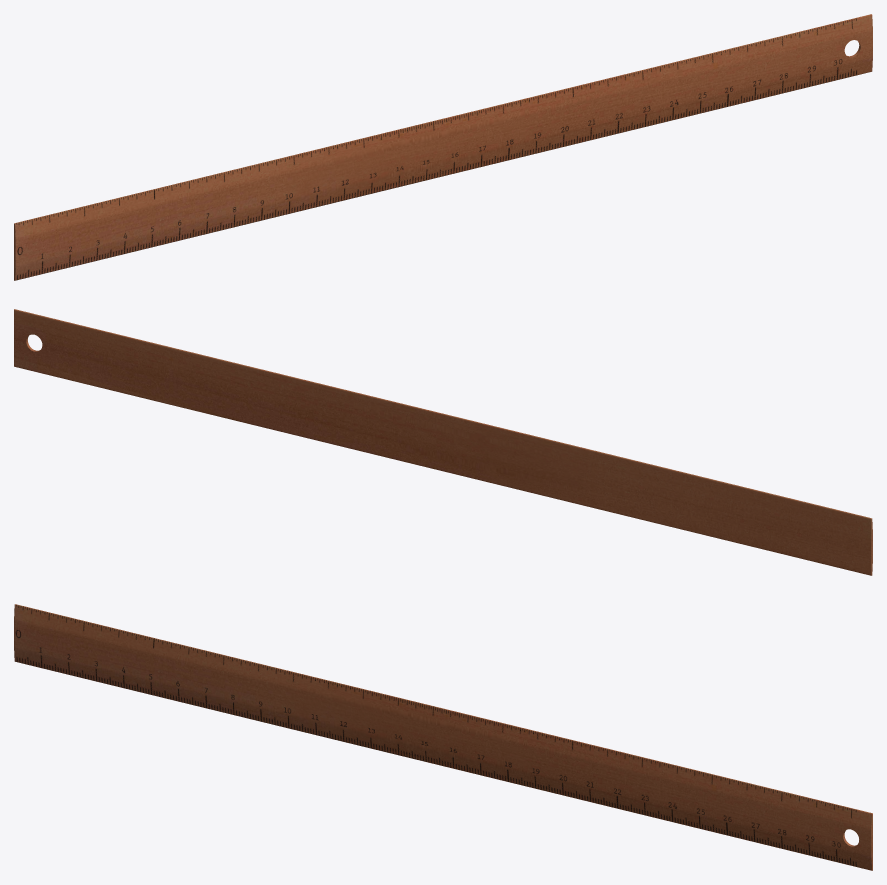
3 renders of one model, top to bottom at view 1: azimuth 30°, elevation 25°; view 2: azimuth 150°, elevation 25°; view 3: azimuth 330°, elevation 25°, orthographic.
Visible parts, largest first — view 1: Node1; view 2: Node1; view 3: Node1.
Boxes of the visible parts, bbox=[...] form: Node1: bbox=[14, 14, 872, 280]; Node1: bbox=[14, 309, 872, 575]; Node1: bbox=[14, 604, 872, 870].
Bounding box in the file's own units: 31.48 × 2.01 × 0.1008.
1 material, 1 textured.
